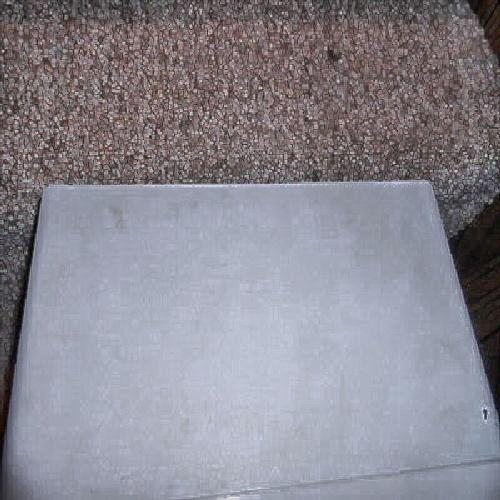coffee_maker: (41, 121, 473, 470)
